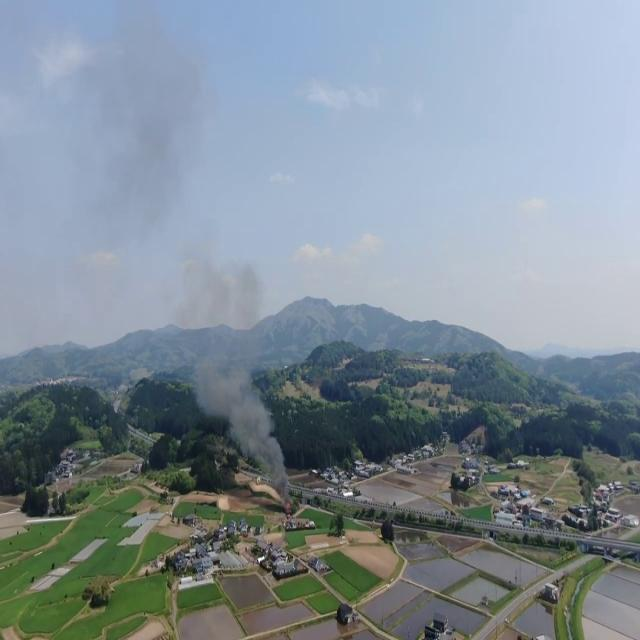Smoke: (180, 292, 288, 486)
